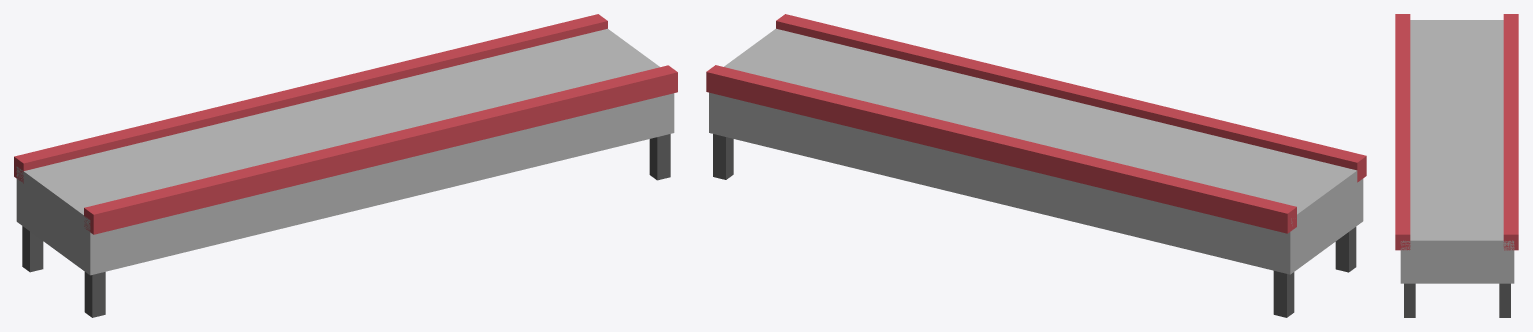
File: line_hell.fbx
3 renders of one model, left to right at view 1: azimuth 30°, elevation 25°; view 2: azimuth 150°, elevation 25°; view 3: azimuth 270°, elevation 25°, orthographic. The views are drawn at different scales.
Parts seen in each view (by area): view 1: Cube, Cube.002, Cube.001, Cube.006, Cube.003, Cube.005; view 2: Cube, Cube.001, Cube.002, Cube.005, Cube.004, Cube.006; view 3: Cube, Cube.002, Cube.001, Cube.004, Cube.003.
Boxes of the visible parts, <box> form: Cube: <box>16,28,674,275</box>; Cube.002: <box>84,65,677,234</box>; Cube.001: <box>14,14,607,183</box>; Cube.006: <box>84,272,105,317</box>; Cube.003: <box>649,134,670,180</box>; Cube.005: <box>22,226,43,272</box>; Cube: <box>709,28,1363,274</box>; Cube.001: <box>706,65,1296,233</box>; Cube.002: <box>776,14,1366,182</box>; Cube.005: <box>1273,271,1294,317</box>; Cube.004: <box>713,134,733,179</box>; Cube.006: <box>1335,227,1356,272</box>; Cube: <box>1400,20,1514,283</box>; Cube.002: <box>1395,14,1410,250</box>; Cube.001: <box>1503,14,1518,250</box>; Cube.004: <box>1499,283,1510,317</box>; Cube.003: <box>1404,283,1415,317</box>.
Size of the model in its own units: 919 by 163 by 217.
